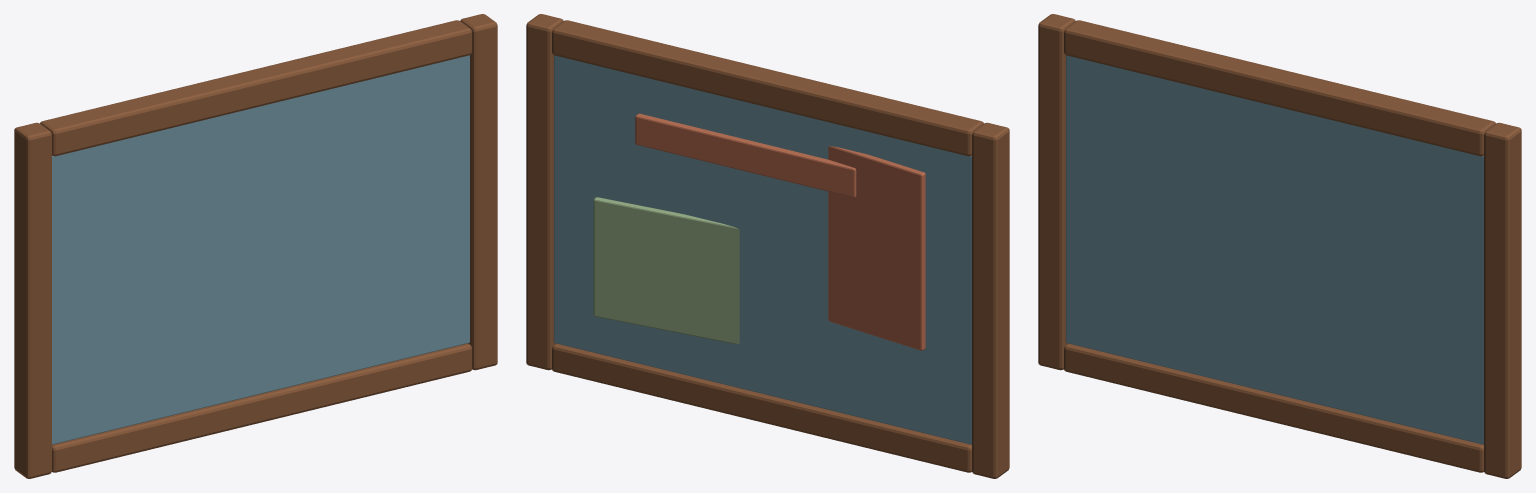
The model's file is wall_art.glb.
3 renders of one model, left to right at view 1: azimuth 30°, elevation 25°; view 2: azimuth 150°, elevation 25°; view 3: azimuth 330°, elevation 25°, orthographic.
Parts seen in each view (by area): view 1: family_wall_art_001_canvas, family_wall_art_005_frame_horizontal_1, family_wall_art_002_frame_vertical_-1, family_wall_art_003_frame_horizontal_-1, family_wall_art_004_frame_vertical_1; view 2: family_wall_art_001_canvas, family_wall_art_007_art_field_sage, family_wall_art_006_art_field_warm, family_wall_art_005_frame_horizontal_1, family_wall_art_002_frame_vertical_-1, family_wall_art_003_frame_horizontal_-1, family_wall_art_004_frame_vertical_1, family_wall_art_008_art_horizon; view 3: family_wall_art_001_canvas, family_wall_art_005_frame_horizontal_1, family_wall_art_004_frame_vertical_1, family_wall_art_003_frame_horizontal_-1, family_wall_art_002_frame_vertical_-1.
Part boxes in pixels (left/top/right/bottom): family_wall_art_001_canvas: left=52, top=55, right=469, bottom=444; family_wall_art_005_frame_horizontal_1: left=40, top=20, right=471, bottom=156; family_wall_art_002_frame_vertical_-1: left=14, top=122, right=51, bottom=478; family_wall_art_003_frame_horizontal_-1: left=52, top=343, right=471, bottom=472; family_wall_art_004_frame_vertical_1: left=460, top=14, right=497, bottom=370; family_wall_art_001_canvas: left=554, top=55, right=971, bottom=444; family_wall_art_007_art_field_sage: left=593, top=197, right=739, bottom=344; family_wall_art_006_art_field_warm: left=828, top=146, right=925, bottom=350; family_wall_art_005_frame_horizontal_1: left=552, top=20, right=983, bottom=156; family_wall_art_002_frame_vertical_-1: left=972, top=122, right=1009, bottom=478; family_wall_art_003_frame_horizontal_-1: left=552, top=343, right=971, bottom=472; family_wall_art_004_frame_vertical_1: left=526, top=14, right=563, bottom=370; family_wall_art_008_art_horizon: left=635, top=113, right=856, bottom=197; family_wall_art_001_canvas: left=1066, top=55, right=1483, bottom=444; family_wall_art_005_frame_horizontal_1: left=1064, top=20, right=1495, bottom=156; family_wall_art_004_frame_vertical_1: left=1484, top=122, right=1521, bottom=478; family_wall_art_003_frame_horizontal_-1: left=1064, top=343, right=1483, bottom=472; family_wall_art_002_frame_vertical_-1: left=1038, top=14, right=1075, bottom=370.
Size of the model in its own units: 0.92 by 0.64 by 0.0638.
